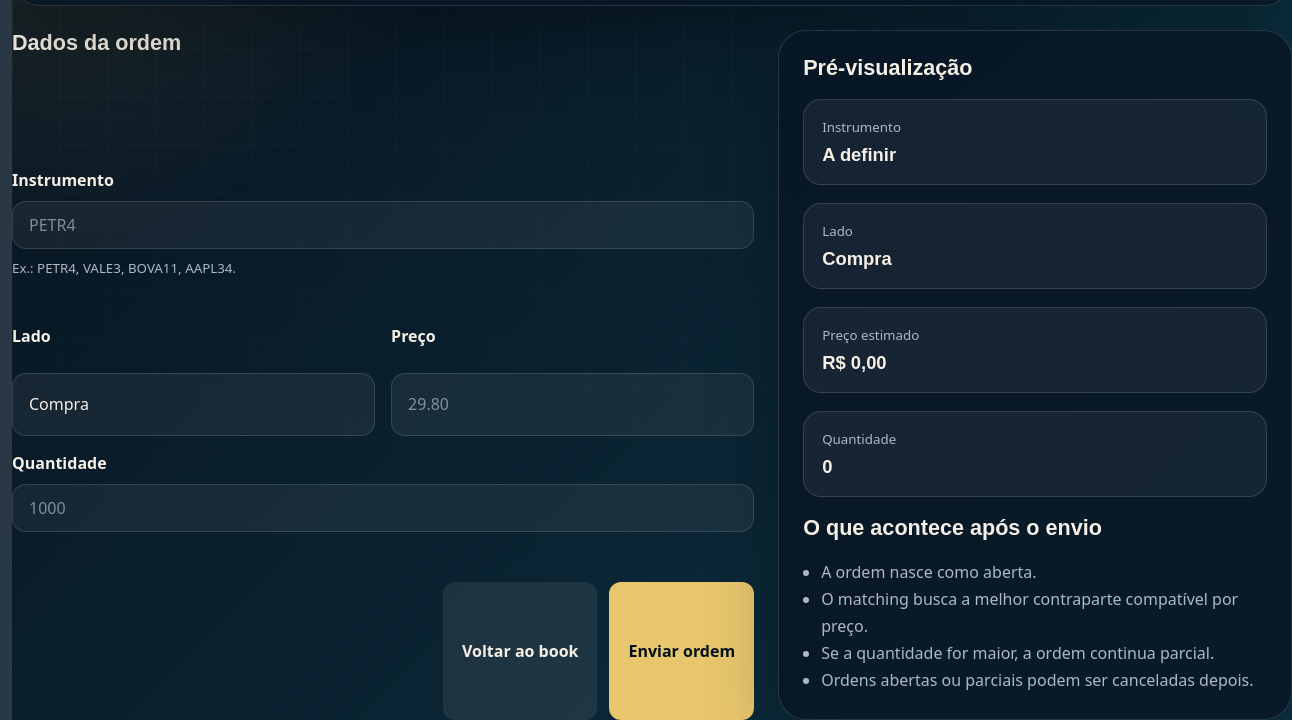
Test case: CreateOrderScreen › exibe validações quando o formulário é enviado vazio
(page scrolled)
Click the button "Enviar ordem": coordinates (682, 651) top-left (610, 582), bottom-right (754, 719)
(page scrolled)
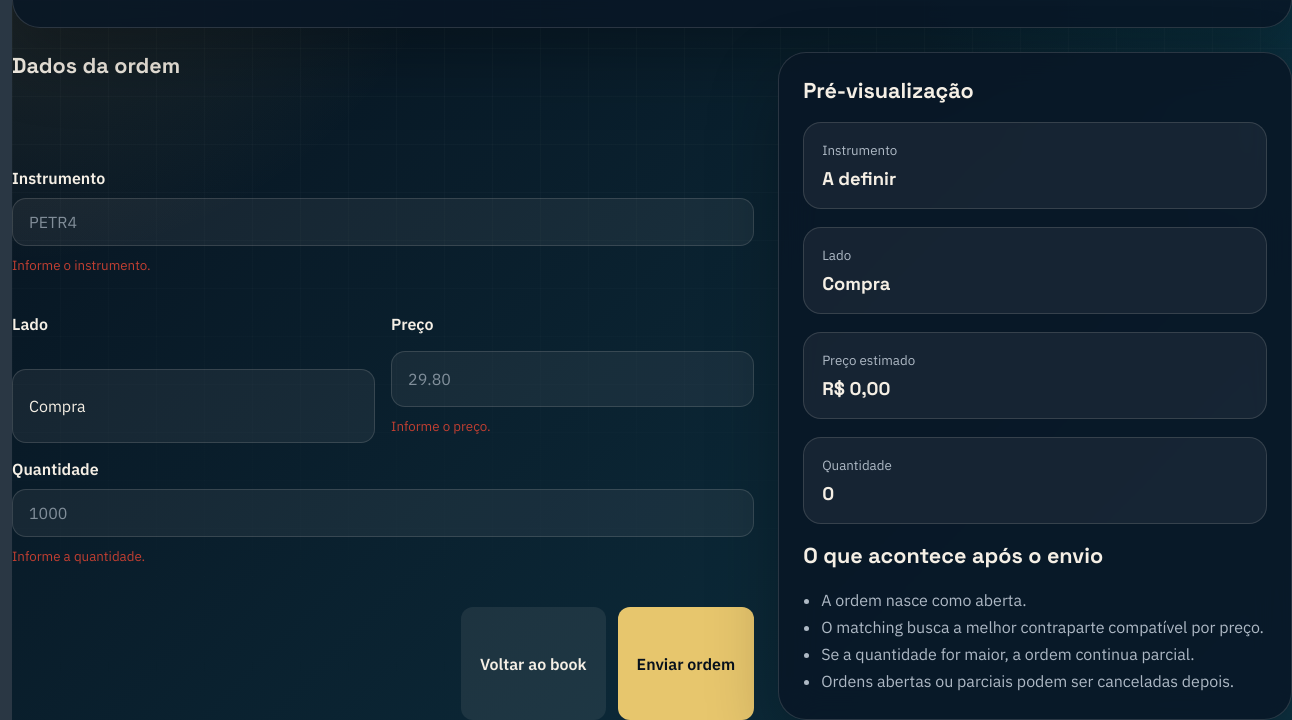
Expected: the text "Informe o instrumento." is shown, top-left (12, 256), bottom-right (151, 274)
Expected: the text "Informe o preço." is shown, top-left (391, 417), bottom-right (491, 435)
Expected: the text "Informe a quantidade." is shown, top-left (12, 547), bottom-right (145, 565)
